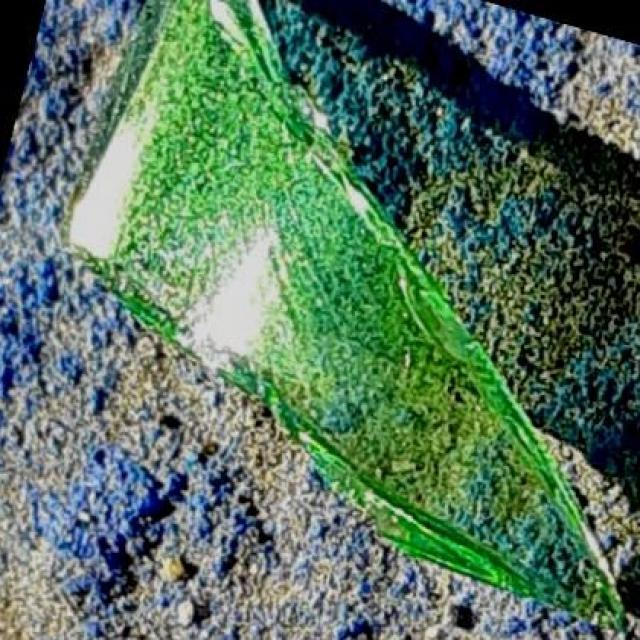Dry: (39, 2, 388, 442), (388, 321, 621, 632)
